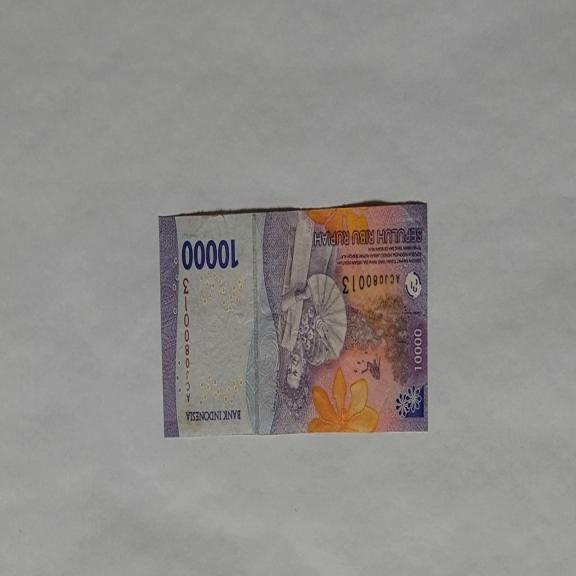Kertas: (158, 200, 429, 437), (180, 236, 239, 271)
